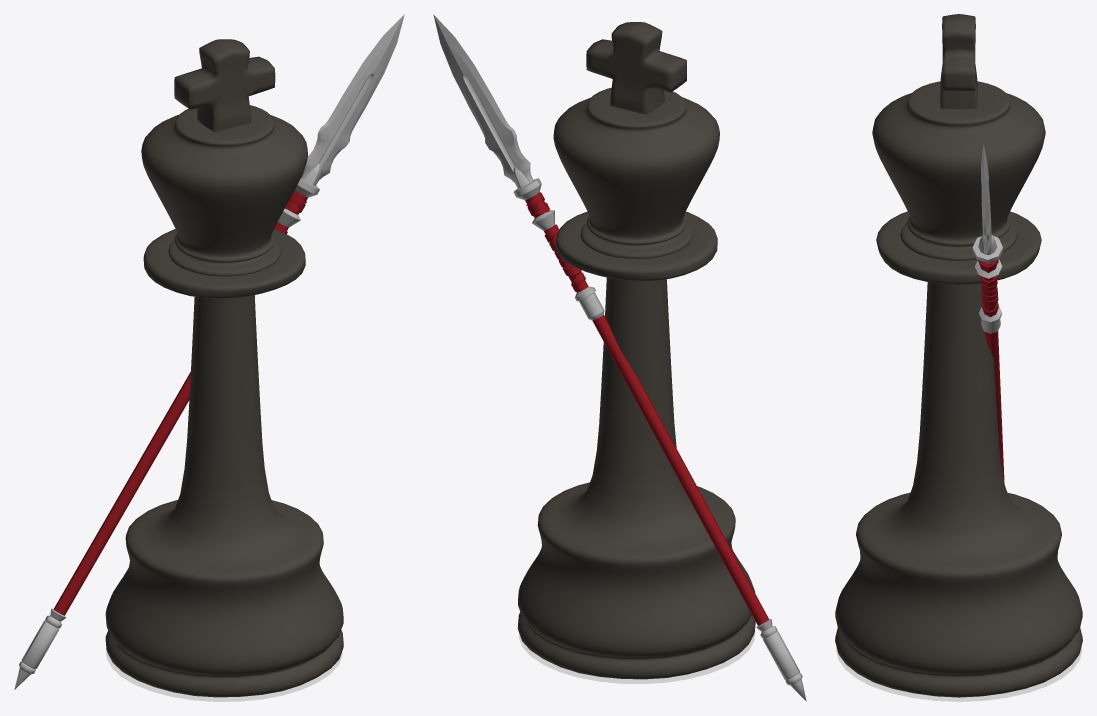
File: Rei2ares.fbx
3 renders of one model, left to right at view 1: azimuth 30°, elevation 25°; view 2: azimuth 150°, elevation 25°; view 3: azimuth 270°, elevation 25°, orthographic. The views are drawn at different scales.
Parts seen in each view (by area): view 1: Konge-m, 2507, Krone-m, 1433, Bonde-m.036; view 2: Konge-m, 2507, Krone-m, 1433, Bonde-m.036; view 3: Konge-m, Krone-m, 2507, 1433, Bonde-m.036.
Boxes of the visible parts, left/top/right/bottom form: Konge-m: left=105, top=105, right=343, bottom=697; 2507: left=14, top=14, right=404, bottom=689; Krone-m: left=174, top=39, right=275, bottom=131; 1433: left=54, top=190, right=307, bottom=615; Bonde-m.036: left=106, top=648, right=342, bottom=701; Konge-m: left=517, top=87, right=755, bottom=679; 2507: left=433, top=14, right=806, bottom=701; Krone-m: left=586, top=22, right=686, bottom=114; 1433: left=525, top=192, right=769, bottom=625; Bonde-m.036: left=518, top=630, right=755, bottom=683; Konge-m: left=835, top=81, right=1082, bottom=697; Krone-m: left=940, top=14, right=977, bottom=108; 2507: left=972, top=143, right=1002, bottom=333; 1433: left=978, top=259, right=1004, bottom=480; Bonde-m.036: left=836, top=647, right=1082, bottom=701.
Bounding box in the file's own units: 7.96 × 12.24 × 4.31.
